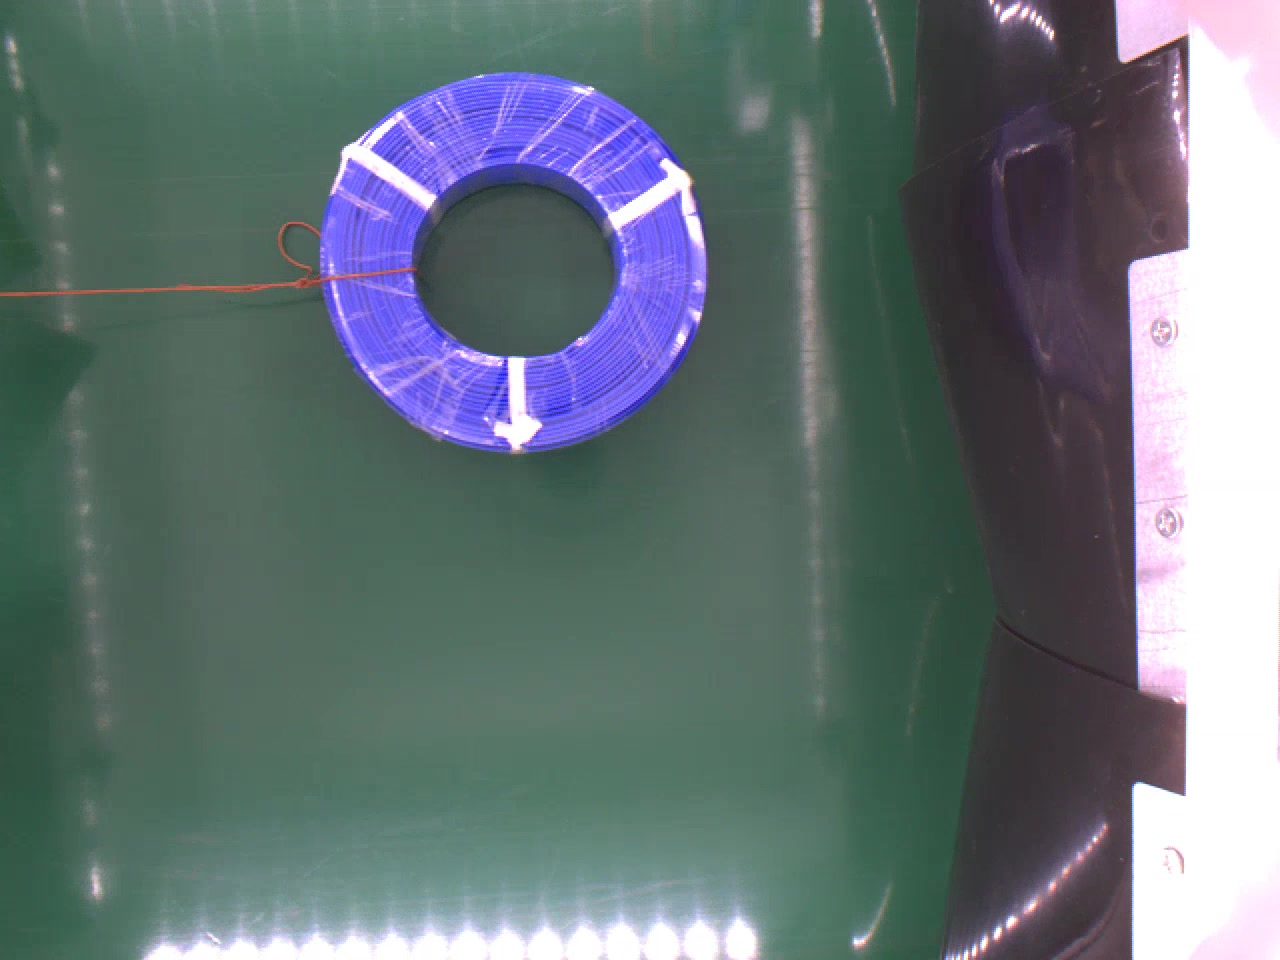blue: (314, 71, 711, 455)
